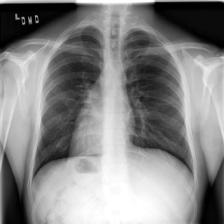normal: (28, 23, 199, 187)
